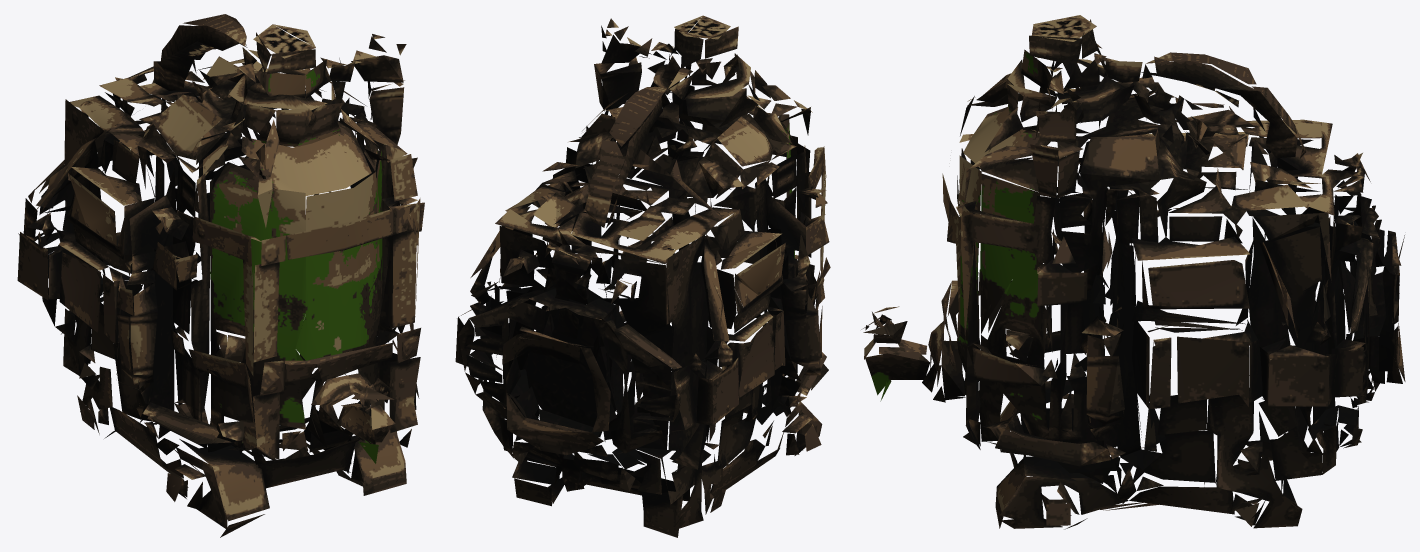
Rendered from co_solvent.glb.
3 views of the same model, side by side, from view 1: azimuth 30°, elevation 25°; view 2: azimuth 150°, elevation 25°; view 3: azimuth 270°, elevation 25° (orthographic). The views are drawn at different scales.
Parts seen in each view (by area): view 1: co_solvent; view 2: co_solvent; view 3: co_solvent.
Boxes of the visible parts, <box> form: co_solvent: <box>17,14,424,537</box>; co_solvent: <box>455,15,830,537</box>; co_solvent: <box>861,15,1405,529</box>.
Bounding box in the file's own units: 0.0835 × 0.1235 × 0.1281.
1 material, 1 textured.
